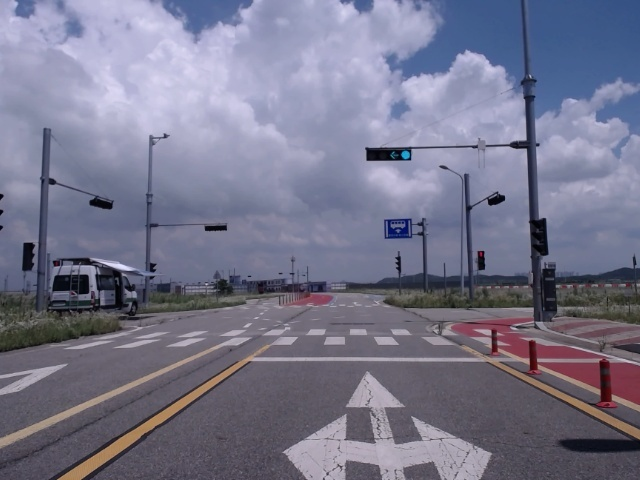all_green_4: (363, 147, 414, 160)
